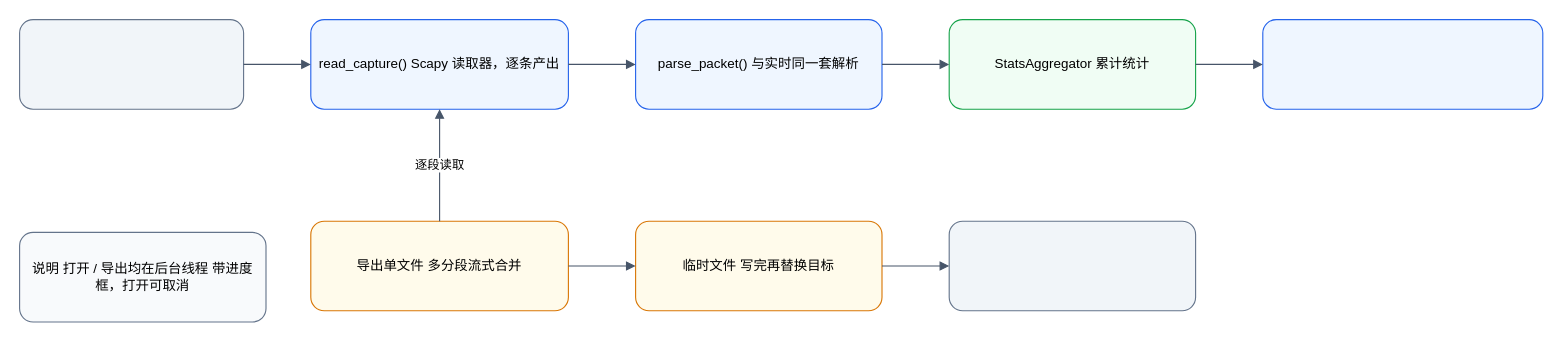
The diagram is 1562 pixels wide and 342 high, and some of its shapes have lost their labels. Each missing label, with the box of its shape:
MainWindow 表格 · 详情 · 图表: (1262, 18, 1543, 109)
pcapng 文件 （单文件或分段）: (18, 18, 244, 109)
目标 pcapng: (948, 220, 1196, 311)
